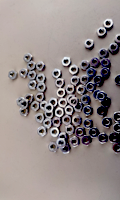nut: (101, 117, 113, 128), (97, 106, 108, 117), (94, 75, 105, 86), (109, 133, 120, 143), (88, 128, 99, 138), (75, 127, 85, 138), (101, 97, 112, 107), (70, 137, 80, 148), (65, 125, 75, 136), (61, 144, 72, 154), (57, 138, 67, 149), (72, 116, 83, 126), (97, 91, 107, 102), (100, 67, 111, 77), (80, 74, 90, 85), (100, 58, 111, 68), (98, 48, 109, 58), (104, 19, 114, 30), (63, 115, 73, 126), (82, 136, 92, 146), (83, 119, 93, 129), (83, 106, 93, 116), (81, 95, 91, 105), (86, 82, 96, 92), (109, 43, 119, 53), (85, 39, 95, 49), (97, 27, 107, 37), (62, 57, 72, 67), (52, 69, 62, 79), (23, 53, 33, 63), (58, 98, 68, 108), (74, 102, 84, 112), (8, 70, 18, 80), (55, 78, 65, 88), (38, 127, 48, 137), (50, 128, 60, 138), (52, 117, 62, 127), (35, 113, 45, 123), (35, 92, 45, 102), (99, 133, 108, 144), (49, 98, 58, 109), (31, 101, 40, 112), (49, 142, 58, 152), (93, 90, 102, 100), (57, 88, 66, 98), (91, 57, 100, 67), (81, 60, 90, 70), (70, 65, 79, 75), (71, 76, 80, 86), (77, 85, 86, 95), (66, 85, 75, 95), (70, 97, 79, 107), (37, 83, 47, 92), (55, 108, 64, 118), (65, 106, 74, 116), (45, 104, 54, 114), (43, 119, 52, 129), (20, 107, 29, 117), (112, 143, 120, 154), (36, 62, 45, 71), (37, 74, 46, 83), (28, 71, 37, 80), (27, 61, 36, 70), (19, 69, 28, 78), (28, 81, 37, 90), (20, 100, 29, 109), (17, 97, 26, 106), (40, 101, 48, 111), (25, 94, 33, 104), (67, 95, 76, 103), (113, 112, 120, 122), (58, 133, 68, 140), (114, 123, 120, 134), (45, 111, 54, 118), (115, 75, 120, 85), (116, 34, 120, 44)
